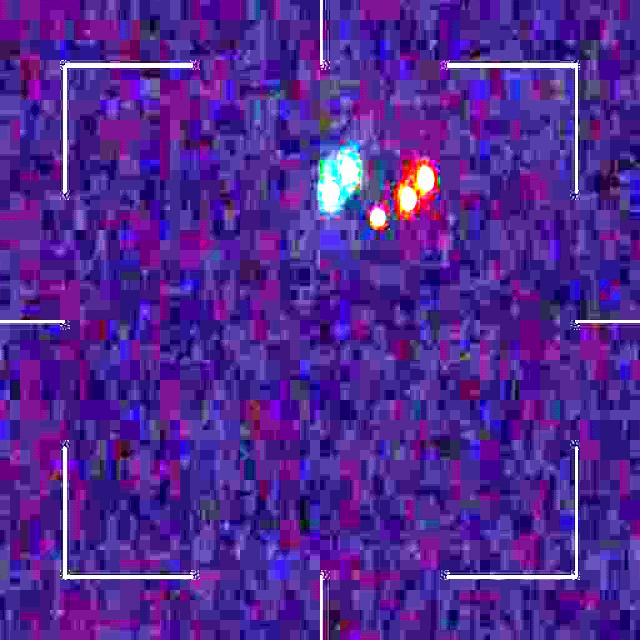bird: (321, 152, 438, 229)
